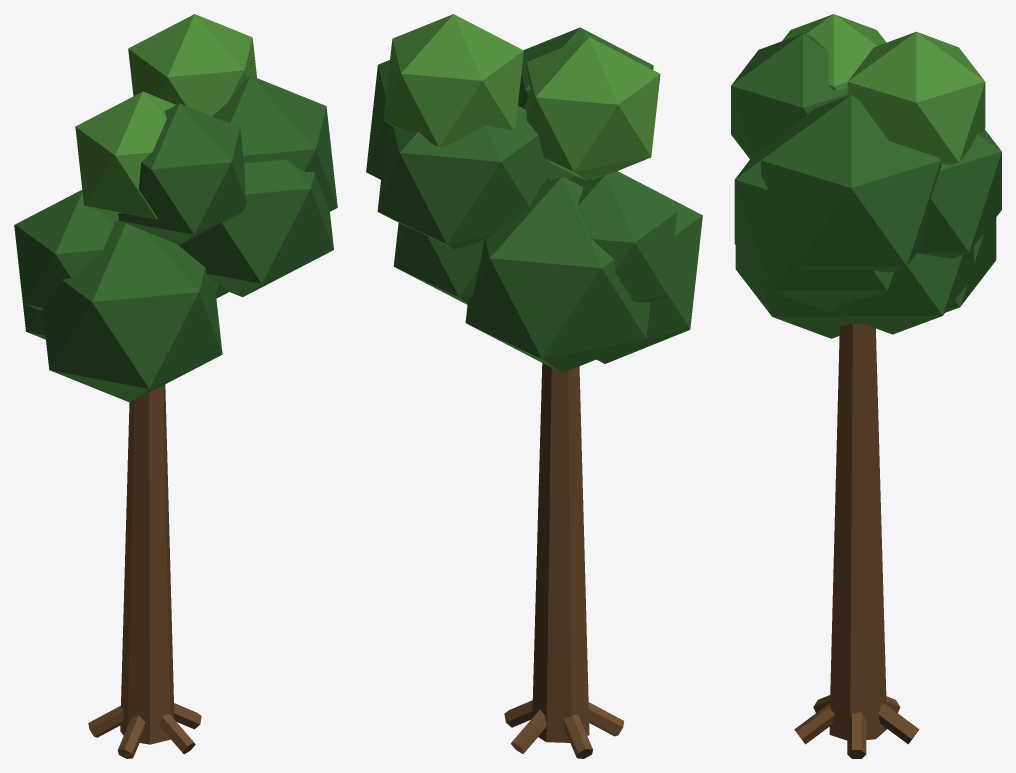
File: arbre_foret_3.glb
The picture shows the model from 3 angles, left to right: view 1: azimuth 30°, elevation 25°; view 2: azimuth 150°, elevation 25°; view 3: azimuth 270°, elevation 25°; orthographic projection. The views are drawn at different scales.
Parts seen in each view (by area): view 1: feuillage_feuille_sombre.012, feuillage_feuille.012, tronc.012, racines_ecorce.002; view 2: feuillage_feuille_sombre.012, feuillage_feuille.012, tronc.012, racines_ecorce.002; view 3: feuillage_feuille_sombre.012, tronc.012, feuillage_feuille.012, racines_ecorce.002.
Boxes of the visible parts, x1=… form: feuillage_feuille_sombre.012: x1=14, y1=75, x2=337, y2=402; feuillage_feuille.012: x1=75, y1=14, x2=256, y2=219; tronc.012: x1=120, y1=384, x2=174, y2=744; racines_ecorce.002: x1=88, y1=703, x2=201, y2=758; feuillage_feuille_sombre.012: x1=366, y1=27, x2=702, y2=372; feuillage_feuille.012: x1=383, y1=14, x2=660, y2=180; tronc.012: x1=532, y1=363, x2=589, y2=742; racines_ecorce.002: x1=504, y1=700, x2=624, y2=758; feuillage_feuille_sombre.012: x1=731, y1=33, x2=1001, y2=338; tronc.012: x1=829, y1=324, x2=886, y2=740; feuillage_feuille.012: x1=782, y1=14, x2=985, y2=165; racines_ecorce.002: x1=794, y1=695, x2=919, y2=758.
Bounding box in the file's own units: 2.26 × 5.13 × 1.69.
